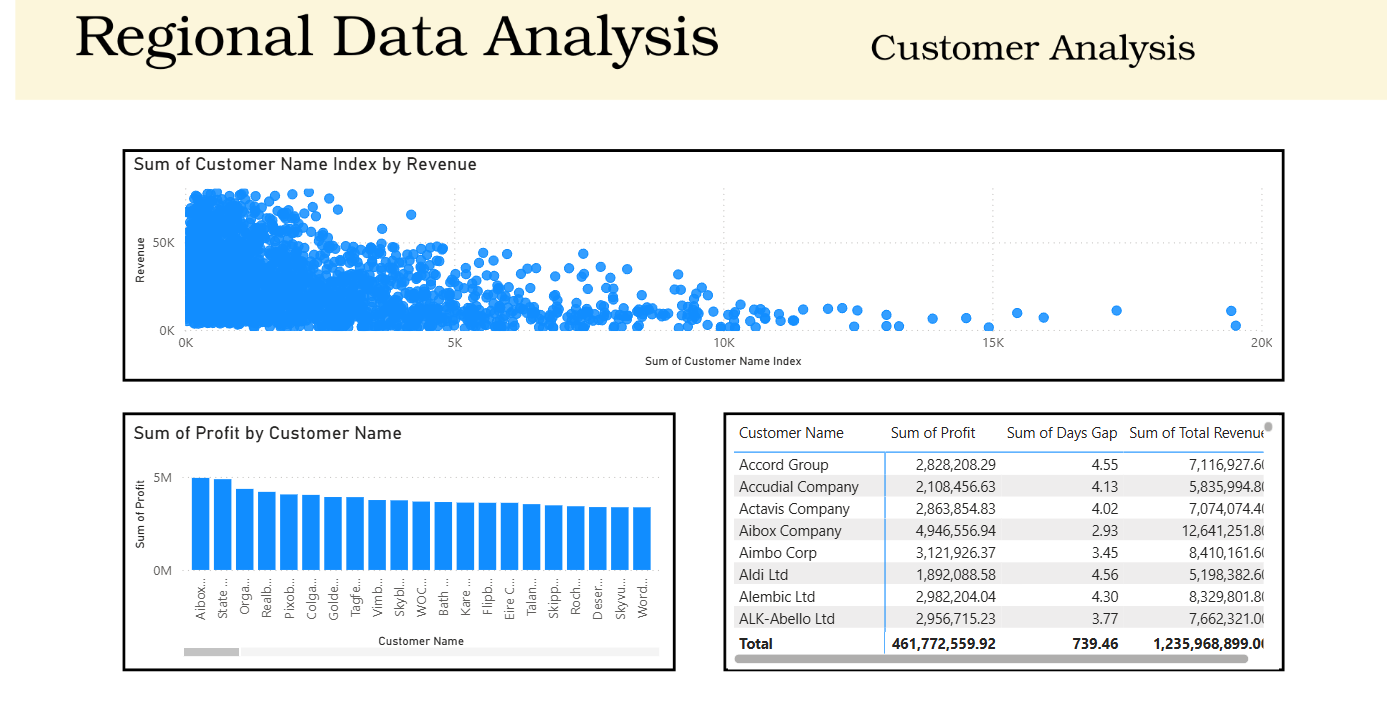

The dashboard page shown, as its layout file describes it:
{"tool":"powerbi","page":{"name":"Page 3","canvas":[1280,720],"ordinal":2},"visuals":[{"type":"image","box":[9.4,0,1269.9,720],"z":0},{"type":"scatterChart","fields":{"Y":["Sales_Data.Line Total"],"Series":["Sales_Data.OrderNumber"]},"box":[118.4,186.3,1051.6,200.5],"z":3000},{"type":"clusteredColumnChart","fields":{"Category":["Worksheet.customer_name"],"Y":["Sum(Worksheet.profit)"]},"box":[118.4,432.6,491.1,219.5],"z":3001},{"type":"pivotTable","fields":{"Values":["Sum(Worksheet.profit)","Sum(Worksheet.days_gap)","Sum(Worksheet.total_revenue)"],"Rows":["Worksheet.customer_name"]},"box":[666.3,426.3,503.7,232.1],"z":3002}]}

Visuals, with their boxes on the page's 1280x720 design canvas (x1, y1, x2, y2). These are canvas units, not pixel positions in the 1387x725 screenshot, which may show the page scaled, cropped or inside an application window:
image: box=[9, 0, 1279, 720]
scatterChart - Sales_Data.Line Total x Sales_Data.OrderNumber: box=[118, 186, 1170, 387]
clusteredColumnChart - Worksheet.customer_name x Sum(Worksheet.profit): box=[118, 433, 610, 652]
pivotTable - Sum(Worksheet.profit) x Sum(Worksheet.days_gap): box=[666, 426, 1170, 658]
